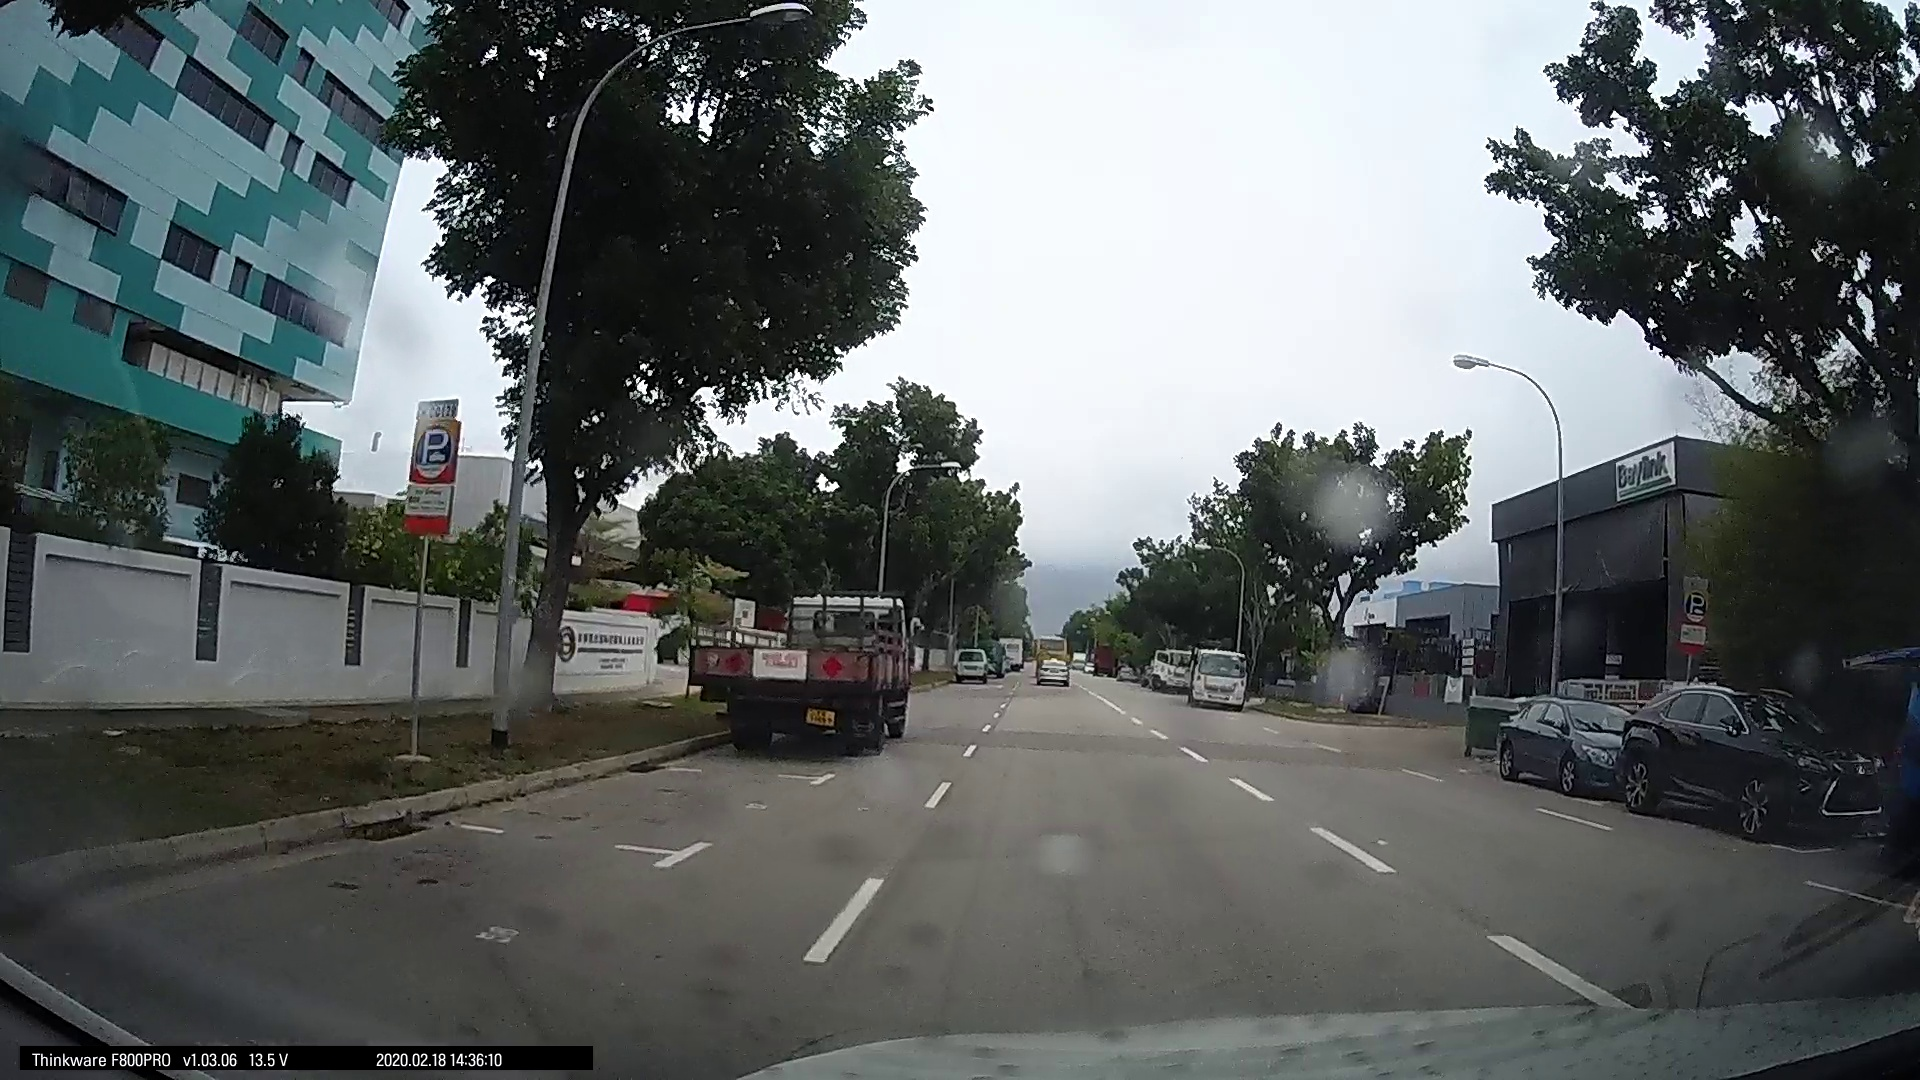Heavy Vehicle: (700, 582, 915, 752)
Light Vehicle: (1602, 676, 1880, 839), (1493, 690, 1633, 795), (1178, 644, 1247, 709), (947, 641, 992, 683), (1029, 646, 1069, 684)
